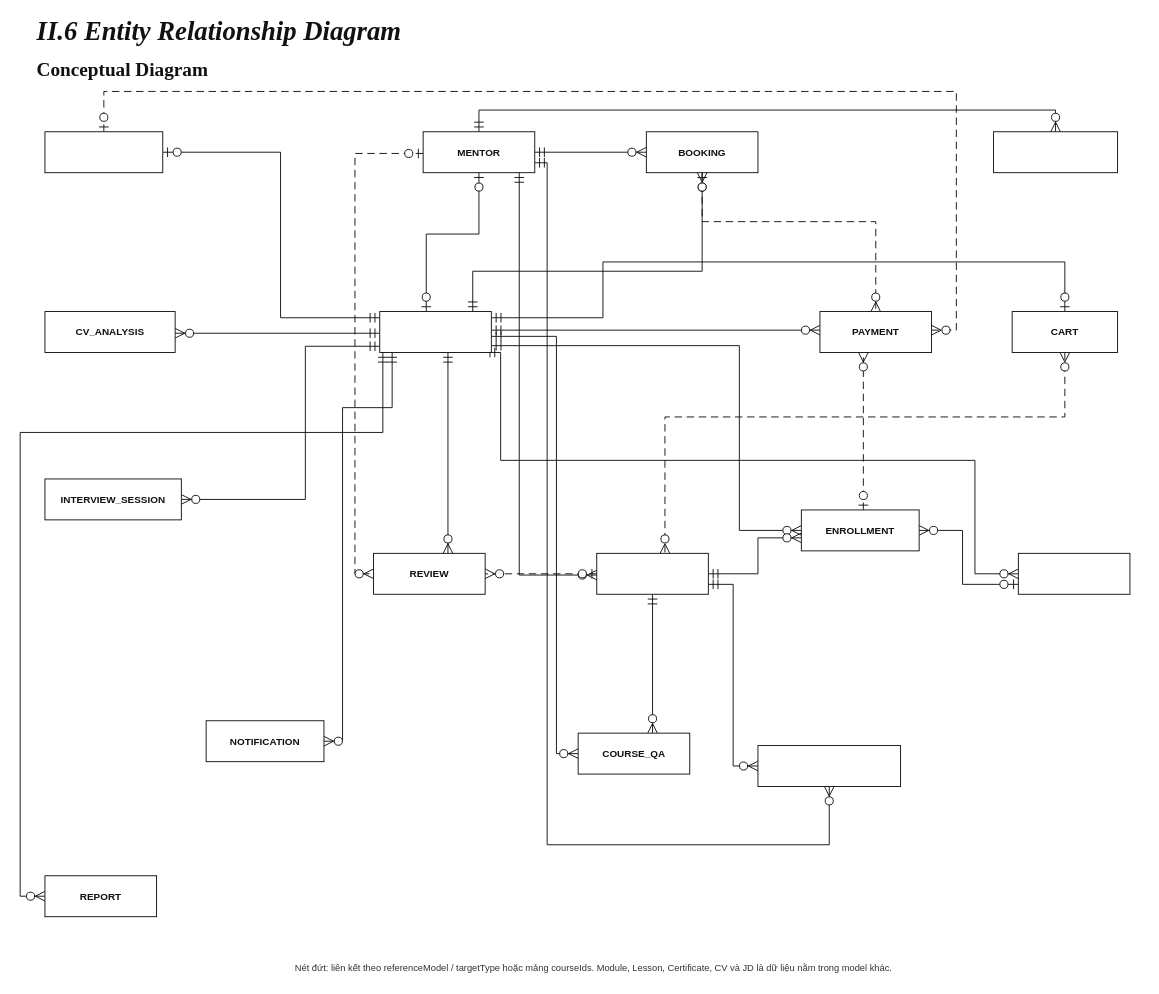
The diagram is 1159 pixels wide and 994 high, and some of its shapes have lost their labels. The shapes that lost their labels are listed below. From the top down, each one's centre as x and y in pixels, then its label:
At [103,152]: "SUBSCRIPTION".
At [1055,152]: "PAYOUT_REQUEST".
At [435,332]: "USER".
At [652,573]: "COURSE".
At [1074,573]: "CART_ORDER".
At [829,766]: "MENTOR_PEER_REVIEW".
